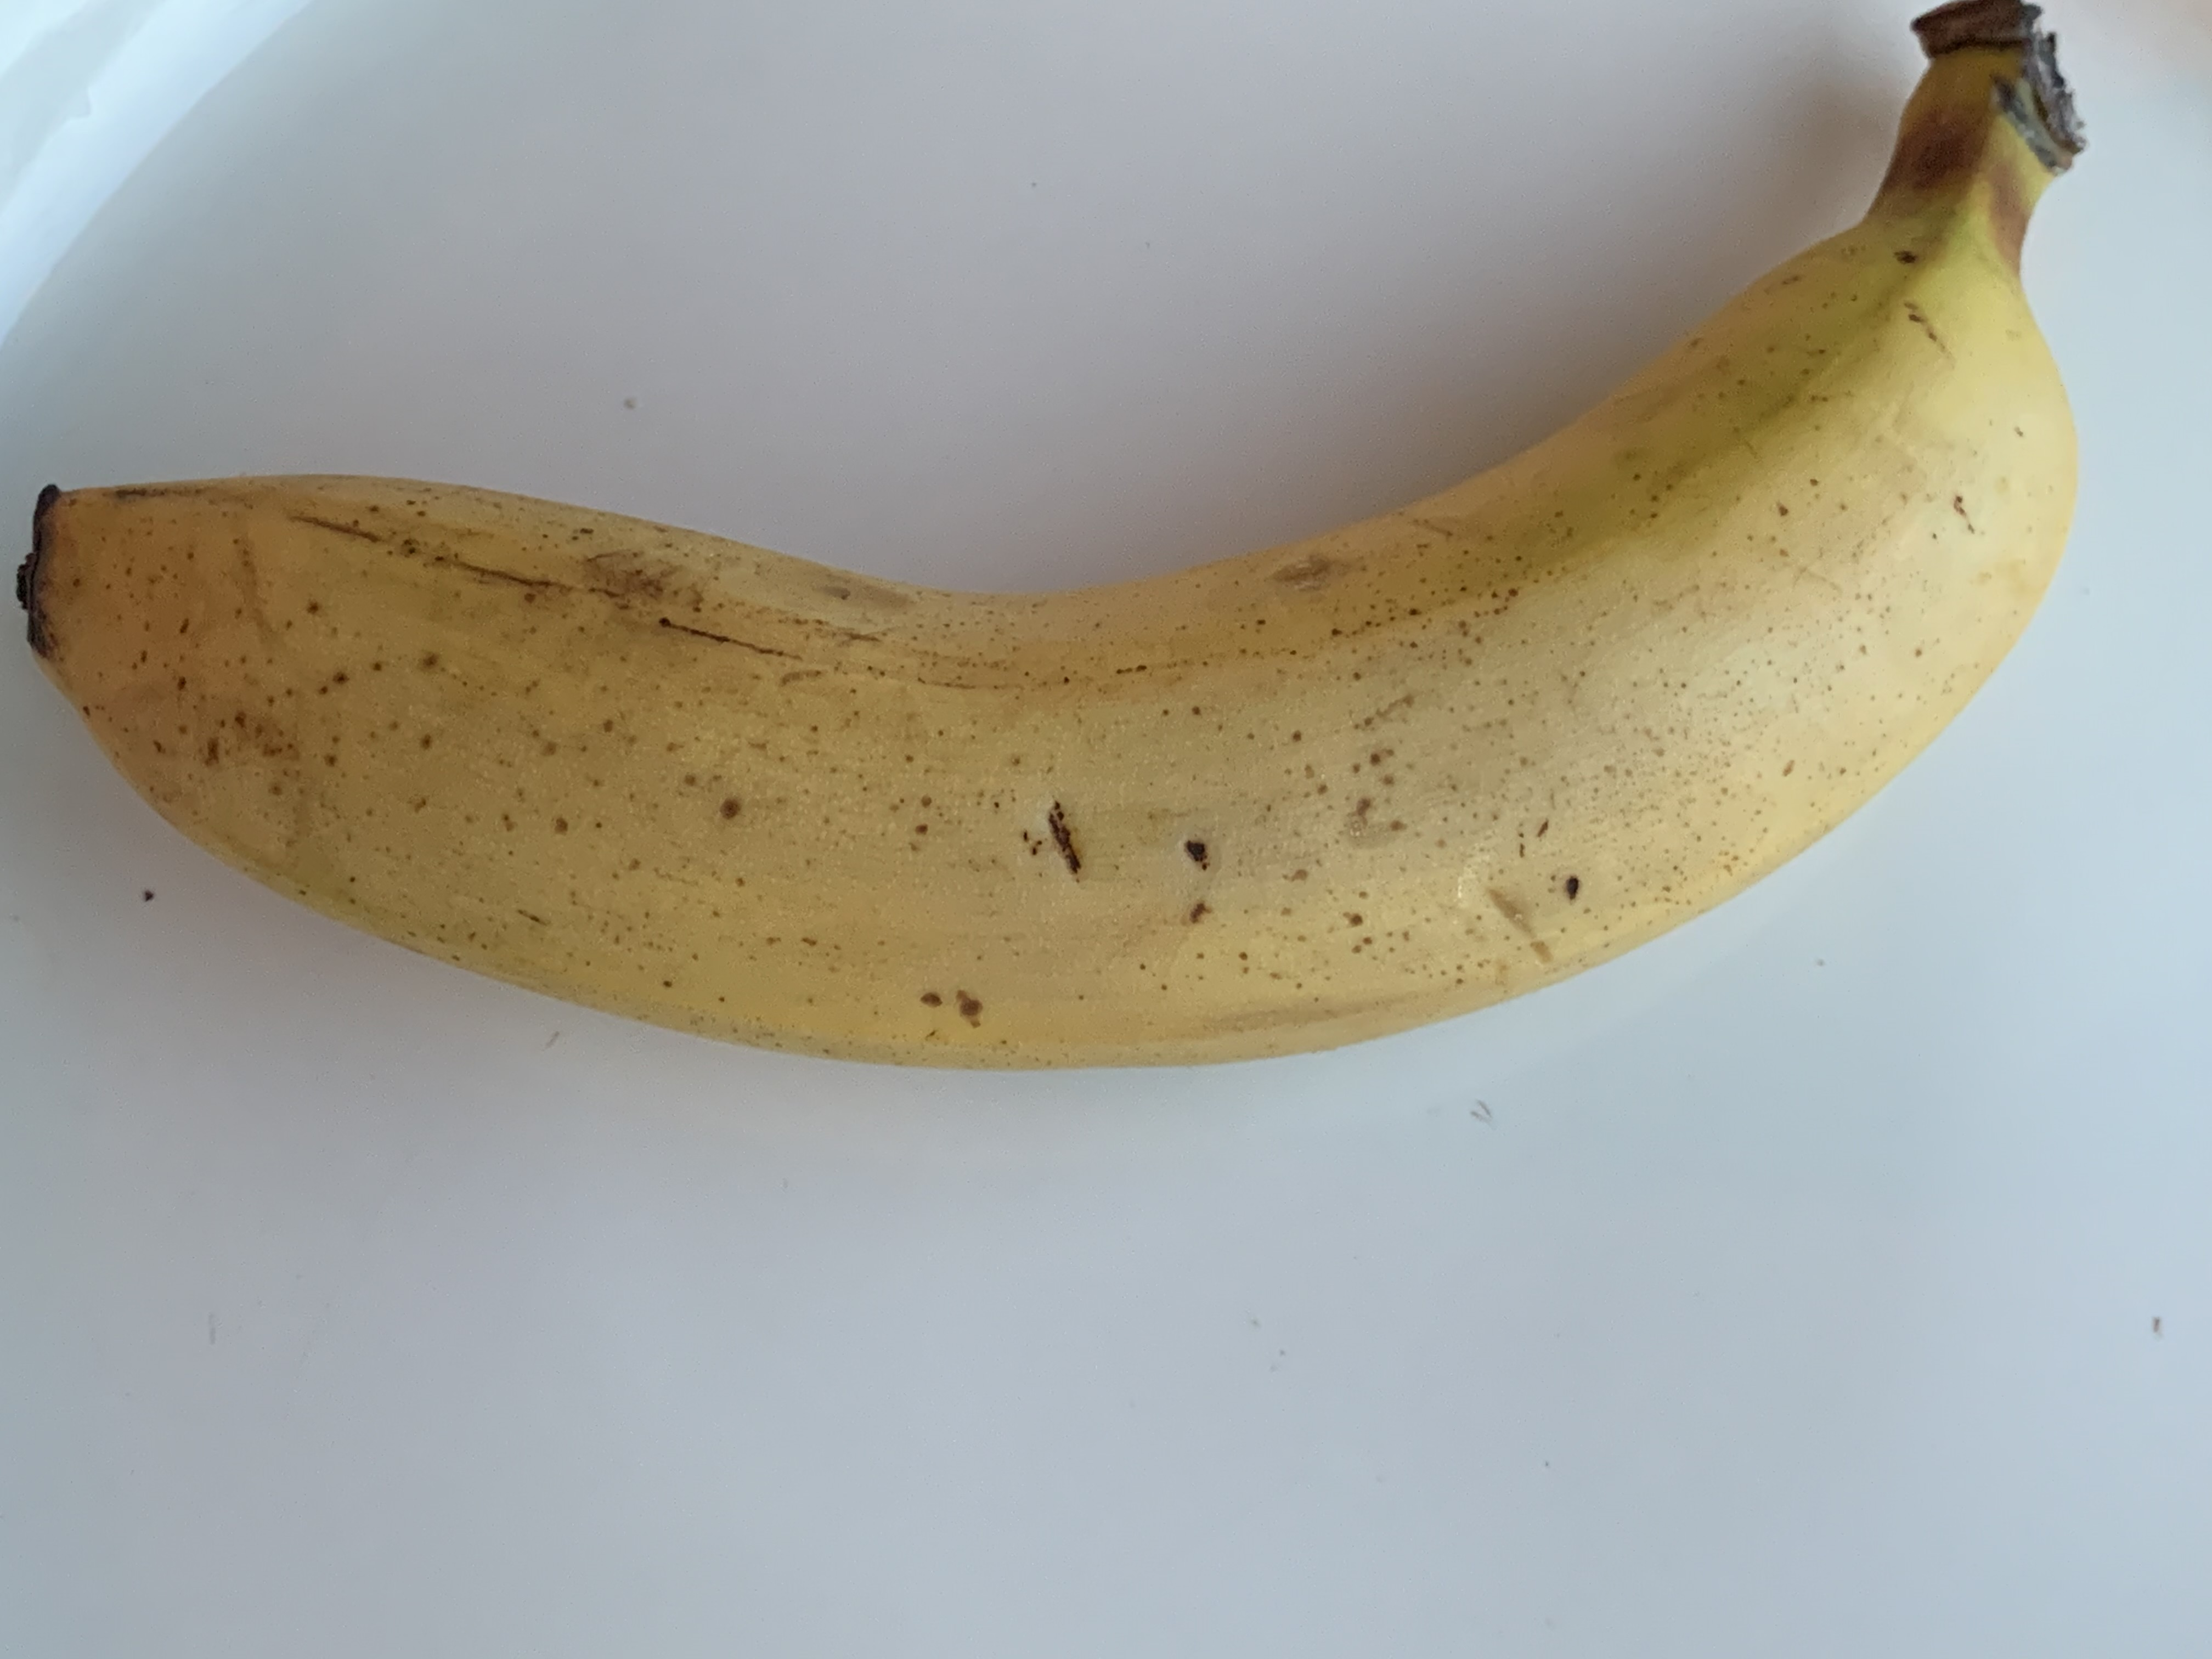banana: (7, 3, 2165, 1077)
